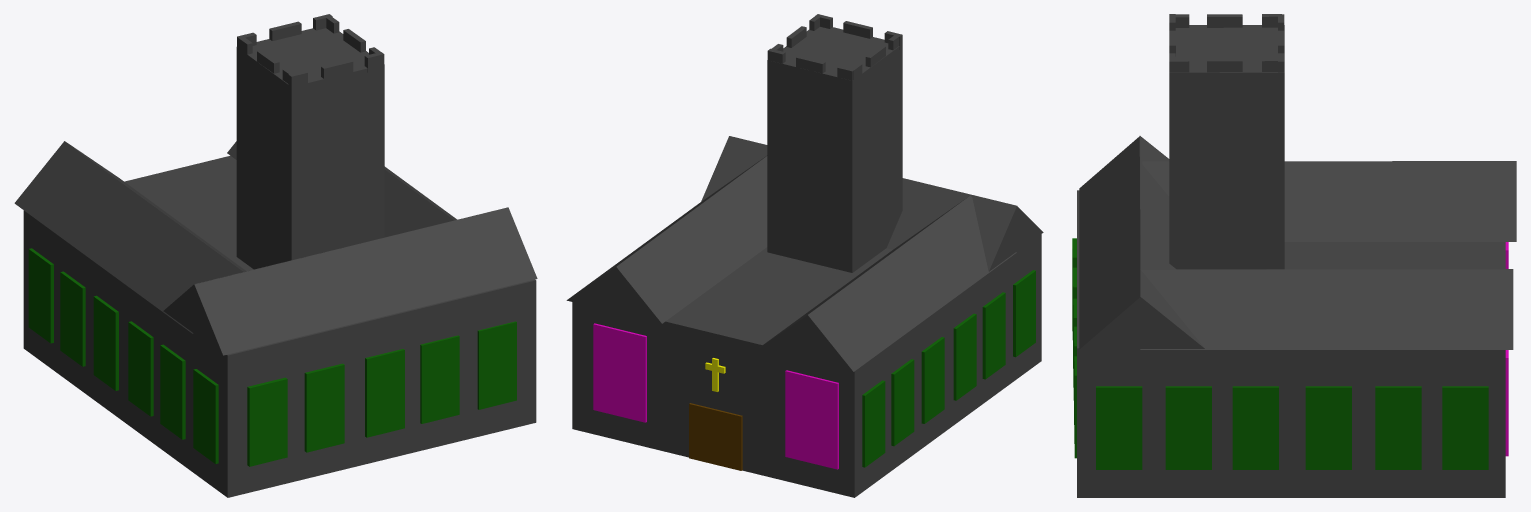
File: church.fbx
3 views of the same model, side by side, from view 1: azimuth 30°, elevation 25°; view 2: azimuth 150°, elevation 25°; view 3: azimuth 270°, elevation 25° (orthographic). The views are drawn at different scales.
Visible parts, largest first — view 1: Cube, Cube.001, Cube.004, Cube.005, Cube.036, Cube.037, Cube.035, Cube.034, Cube.033, Cube.006, Cube.025, Cube.027 (+5 smaller); view 2: Cube, Cube.001, Cube.005, Cube.006, Cube.004, Cube.030, Cube.031, Cube.032, Cube.025, Cube.026, Cube.027, Cube.028 (+2 smaller); view 3: Cube, Cube.006, Cube.001, Cube.005, Cube.004, Cube.017, Cube.018, Cube.019, Cube.021, Cube.022, Cube.023, Cube.014 (+1 smaller).
Part boxes in pixels (x1,y1,x2,y2): Cube: (23, 155, 536, 497); Cube.001: (236, 28, 384, 269); Cube.004: (163, 207, 537, 355); Cube.005: (14, 141, 246, 333); Cube.036: (247, 377, 287, 466); Cube.037: (304, 363, 344, 452); Cube.035: (365, 349, 404, 437); Cube.034: (420, 335, 459, 423); Cube.033: (477, 321, 516, 409); Cube.006: (227, 141, 456, 237); Cube.025: (60, 271, 85, 366); Cube.027: (128, 321, 153, 416); Cube: (572, 234, 1041, 497); Cube.001: (767, 27, 902, 272); Cube.005: (758, 195, 1016, 371); Cube.006: (566, 155, 767, 323); Cube.004: (701, 136, 1043, 271); Cube.030: (593, 323, 646, 422); Cube.031: (785, 370, 838, 469); Cube.032: (689, 403, 742, 470); Cube.025: (891, 359, 914, 446); Cube.026: (862, 380, 885, 467); Cube.027: (953, 313, 976, 400); Cube.028: (982, 292, 1005, 379); Cube: (1077, 190, 1505, 497); Cube.006: (1140, 269, 1513, 349); Cube.001: (1169, 25, 1284, 269); Cube.005: (1142, 161, 1516, 241); Cube.004: (1079, 136, 1204, 349); Cube.017: (1096, 386, 1142, 469); Cube.018: (1165, 386, 1211, 469); Cube.019: (1232, 386, 1278, 469); Cube.021: (1442, 386, 1488, 469); Cube.022: (1375, 386, 1421, 469); Cube.023: (1305, 386, 1351, 469); Cube.014: (1207, 58, 1242, 72).
Bounding box in the file's own units: 4555 × 5002 × 5288.
